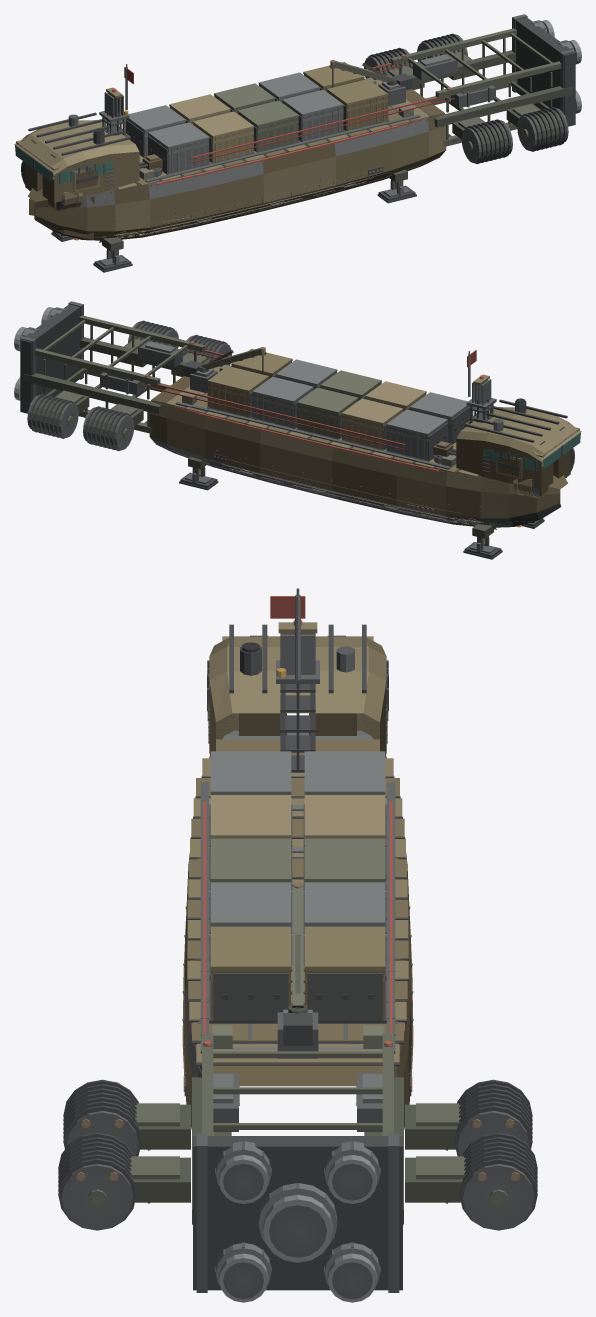
Rendered from packlite.glb.
The picture shows the model from 3 angles, top to bottom: view 1: azimuth 30°, elevation 25°; view 2: azimuth 150°, elevation 25°; view 3: azimuth 270°, elevation 25°; orthographic projection. The views are drawn at different scales.
Visible parts, largest first — view 1: center_hull, engine_frame, bridge, cargo_deck, container_r0, pod_r1, pod_r0, container_r3, container_r4, container_r1, container_r2, container_l0 (+17 smaller); view 2: center_hull, engine_frame, bridge, cargo_deck, container_l0, pod_l1, pod_l0, container_l3, container_l4, container_l1, container_l2, container_r0 (+17 smaller); view 3: engine_frame, center_hull, nozzle_cluster, bridge, pod_r1, pod_l1, container_r4, container_l4, pod_r0, pod_l0, radar_tower, cargo_deck (+12 smaller).
Part boxes in pixels (left/top/right/bottom): center_hull: left=28, top=79, right=446, bottom=242; engine_frame: left=390, top=14, right=575, bottom=146; bridge: left=14, top=112, right=139, bottom=202; cargo_deck: left=141, top=63, right=454, bottom=182; container_r0: left=148, top=122, right=209, bottom=174; pod_r1: left=506, top=103, right=568, bottom=151; pod_r0: left=452, top=116, right=512, bottom=164; container_r3: left=282, top=89, right=344, bottom=141; container_r4: left=327, top=79, right=388, bottom=130; container_r1: left=192, top=111, right=254, bottom=163; container_r2: left=237, top=100, right=299, bottom=152; container_l0: left=126, top=105, right=185, bottom=157; center_hull: left=149, top=366, right=567, bottom=529; engine_frame: left=20, top=301, right=205, bottom=433; bridge: left=456, top=398, right=581, bottom=489; cargo_deck: left=141, top=350, right=451, bottom=469; container_l0: left=386, top=409, right=447, bottom=461; pod_l1: left=27, top=390, right=89, bottom=438; pod_l0: left=83, top=403, right=143, bottom=451; container_l3: left=251, top=376, right=313, bottom=428; container_l4: left=207, top=366, right=268, bottom=417; container_l1: left=341, top=398, right=403, bottom=450; container_l2: left=296, top=387, right=358, bottom=439; container_r0: left=410, top=392, right=469, bottom=444; engine_frame: left=192, top=1033, right=403, bottom=1292; center_hull: left=182, top=730, right=413, bottom=1129; nozzle_cluster: left=215, top=1141, right=380, bottom=1302; bridge: left=207, top=624, right=388, bottom=757; pod_r1: left=58, top=1132, right=190, bottom=1230; pod_l1: left=405, top=1132, right=537, bottom=1230; container_r4: left=209, top=926, right=291, bottom=1023; container_l4: left=304, top=926, right=386, bottom=1023; pod_r0: left=63, top=1079, right=190, bottom=1156; pod_l0: left=405, top=1079, right=532, bottom=1156; radar_tower: left=270, top=588, right=319, bottom=772; cargo_deck: left=200, top=782, right=395, bottom=1053.
Bounding box in the file's own units: 66.5 × 21.2 × 26.
